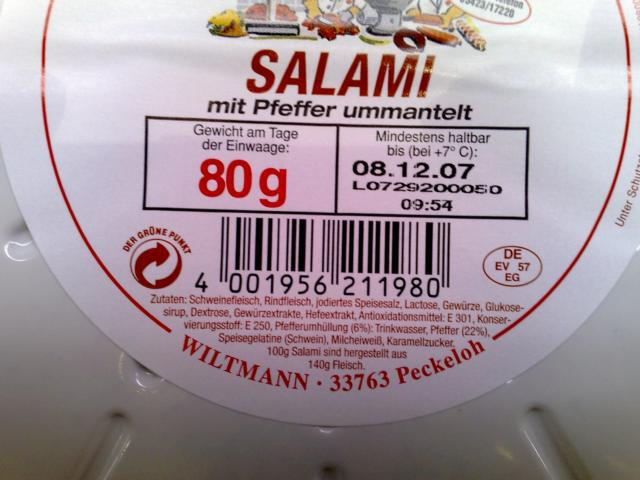Barkod: (218, 215, 452, 274)
